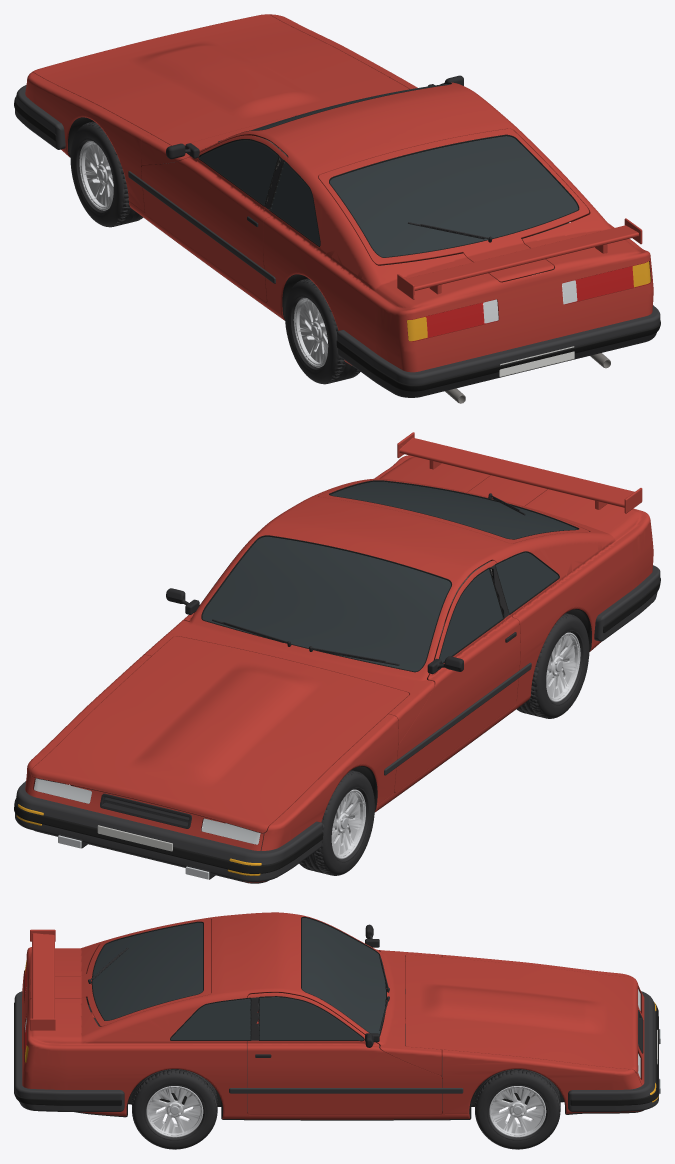
Rendered from interceptor.glb.
3 views of the same model, one above another, from view 1: azimuth 30°, elevation 25°; view 2: azimuth 150°, elevation 25°; view 3: azimuth 270°, elevation 25° (orthographic). The views are drawn at different scales.
Visible parts, largest first — view 1: Body, Hood, Glass_Rear, Door_FL, Trunk, Bumper_R, Fender_FL, Glass_FL, Wheel_FL_Tyre, Wheel_RL_Tyre, Glass_QL, Bumper_R_Strip (+9 smaller); view 2: Hood, Body, Glass_Front, Door_FL, Trunk, Bumper_F, Glass_Rear, Fender_FL, Glass_FL, Wheel_RL_Tyre, Wheel_FL_Tyre, Bumper_F_Strip (+10 smaller); view 3: Body, Hood, Door_FR, Glass_Rear, Glass_Front, Fender_FR, Trunk, Glass_FR, Wheel_FR_Tyre, Wheel_RR_Tyre, Glass_QR, Bumper_F (+7 smaller).
Boxes of the visible parts, x1,y1,x2,y2 form: Body: (63,75,653,372); Hood: (32,14,409,145); Glass_Rear: (329,134,579,257); Door_FL: (141,135,287,302); Trunk: (318,128,642,299); Bumper_R: (337,305,660,397); Fender_FL: (25,72,150,211); Glass_FL: (198,139,280,206); Wheel_FL_Tyre: (70,121,143,227); Wheel_RL_Tyre: (285,278,360,384); Glass_QL: (269,160,320,246); Bumper_R_Strip: (336,320,660,391); Hood: (31,636,409,832); Body: (29,455,653,883); Glass_Front: (201,535,451,672); Door_FL: (394,560,520,792); Trunk: (318,432,642,543); Bumper_F: (15,778,322,882); Glass_Rear: (329,480,579,539); Fender_FL: (260,714,398,882); Glass_FL: (439,567,504,663); Wheel_RL_Tyre: (516,613,589,718); Wheel_FL_Tyre: (299,770,374,875); Bumper_F_Strip: (14,780,323,873); Body: (22,912,644,1120); Hood: (405,954,638,1072); Door_FR: (247,992,442,1114); Glass_Rear: (91,921,203,1020); Glass_Front: (301,916,386,1036); Fender_FR: (442,1049,641,1113); Trunk: (30,918,211,1030); Glass_FR: (258,996,364,1041); Wheel_FR_Tyre: (475,1069,560,1149); Wheel_RR_Tyre: (132,1069,217,1149); Glass_QR: (170,997,258,1040); Bumper_F: (568,991,658,1111).
Size of the model in its own units: 2.04 by 1.28 by 4.83.
